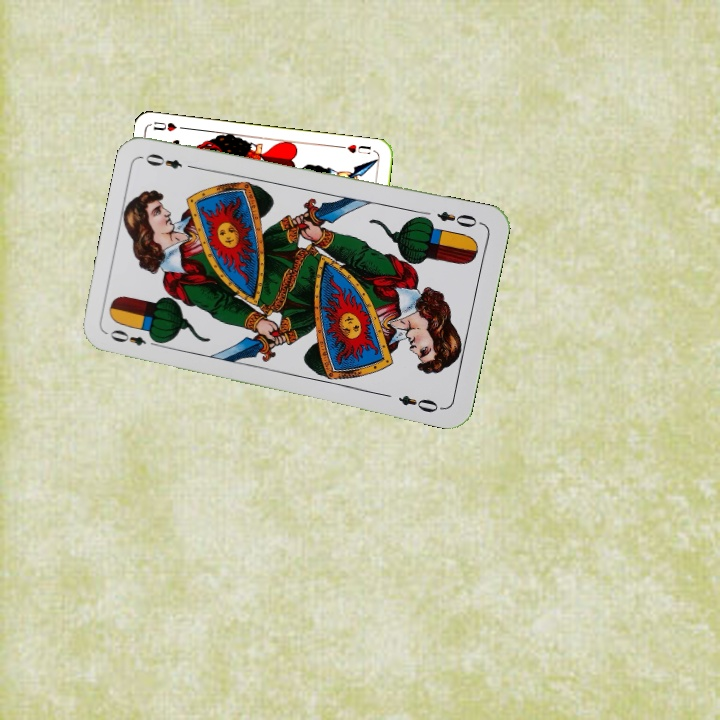EO: (105, 325, 163, 349), (432, 207, 480, 230)
HU: (343, 140, 373, 157)
